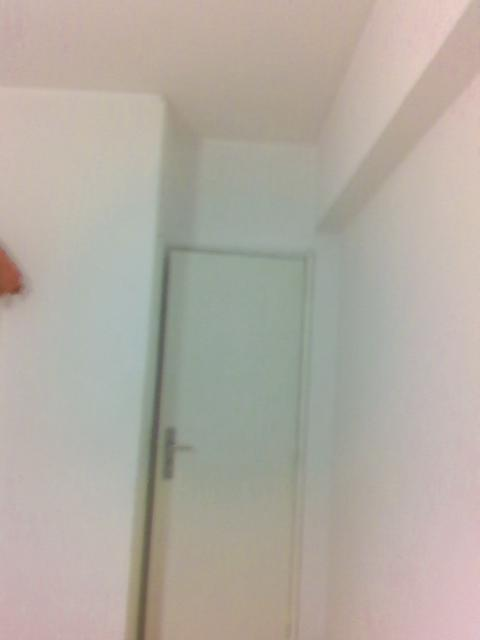closed_door: (134, 233, 319, 639)
